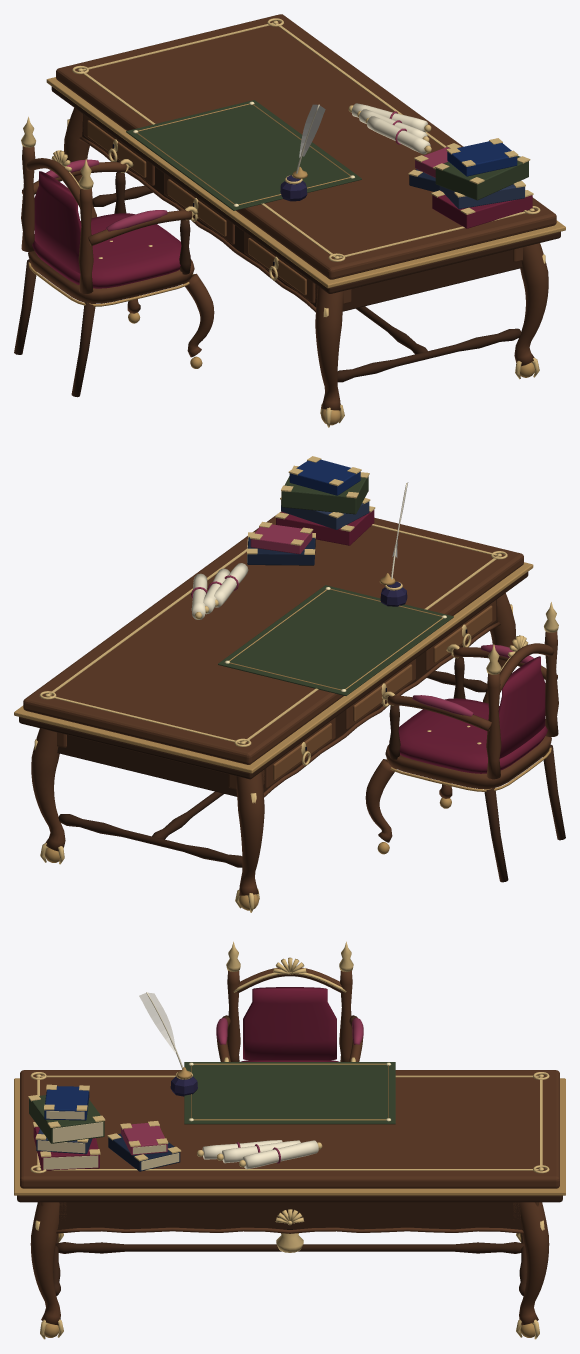
File: desk_corner.glb
The picture shows the model from 3 angles, top to bottom: view 1: azimuth 30°, elevation 25°; view 2: azimuth 150°, elevation 25°; view 3: azimuth 270°, elevation 25°; orthographic projection.
Parts seen in each view (by area): view 1: TopSlab, Pad, Cushion, TopBand, ApronSide.001, BackPanel, TopMould, Leg.001, Leg.003, SeatRail, Stack2, Stretcher.001 (+32 smaller); view 2: TopSlab, Pad, Cushion, TopBand, ApronSide, BackPanel, TopMould, Leg, Leg.002, SeatRail, Stack2, Stretcher (+25 smaller); view 3: TopSlab, Pad, ApronBack, BackPanel, TopBand, TopMould, StretcherMid, Leg.002, Leg.003, ApronBead.001, Stack2, Stack3 (+16 smaller).
Part boxes in pixels (x1,y1,x2,y2): TopSlab: (56,14,556,279); Pad: (126,100,361,210); Cushion: (32,213,190,288); TopBand: (46,77,565,288); ApronSide.001: (343,249,522,311); BackPanel: (34,171,81,273); TopMould: (51,86,560,293); Leg.001: (315,286,343,410); Leg.003: (514,243,548,366); SeatRail: (28,251,194,303); Stack2: (435,156,528,200); Stretcher.001: (337,328,521,382); TopSlab: (23,511,523,764); Pad: (218,585,453,695); Cushion: (389,698,547,773); TopBand: (14,562,533,773); ApronSide: (57,735,237,796); BackPanel: (498,656,545,758); TopMould: (19,572,528,779); Leg: (236,771,264,895); Leg.002: (31,728,65,851); SeatRail: (385,736,551,788); Stack2: (281,476,368,514); Stretcher: (58,814,242,867); TopSlab: (20,1070,559,1188); Pad: (184,1062,395,1124); ApronBack: (57,1202,522,1229); BackPanel: (243,987,336,1060); TopBand: (14,1078,565,1195); TopMould: (17,1195,562,1202); StretcherMid: (55,1242,524,1253); Leg.002: (519,1202,549,1325); Leg.003: (30,1202,60,1325); ApronBead.001: (56,1227,523,1233); Stack2: (29,1095,104,1143); Stack3: (44,1086,89,1120).
Size of the model in its own units: 1.84 by 1.27 by 2.35.
